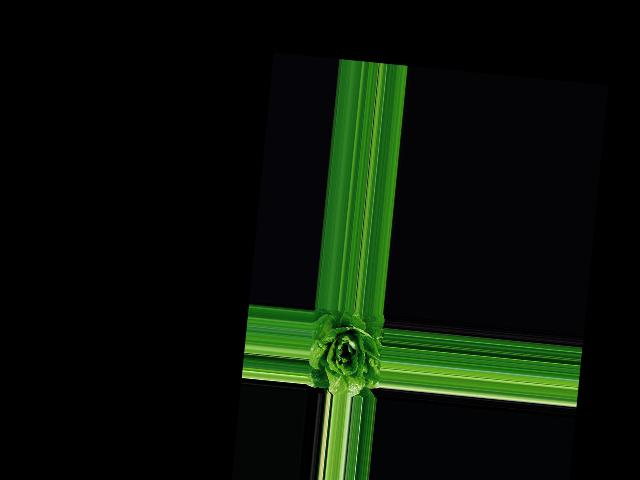lettuce: (308, 309, 386, 395)
